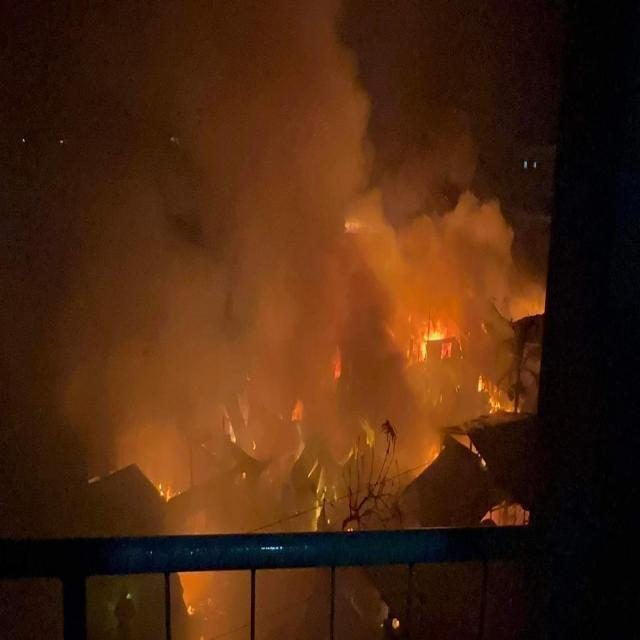Fire: (167, 360, 340, 550), (372, 262, 500, 430)
Smoke: (0, 0, 539, 373), (32, 333, 404, 512)
